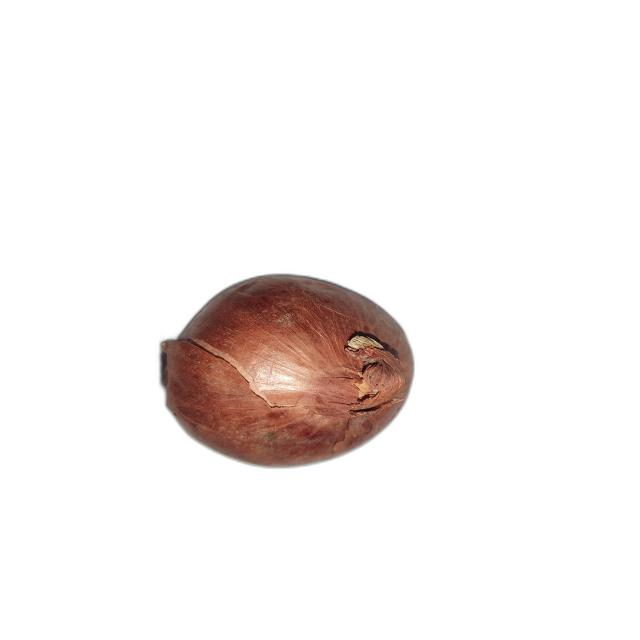onion: (160, 274, 415, 469)
